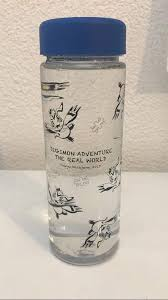bottle: (28, 12, 137, 268)
